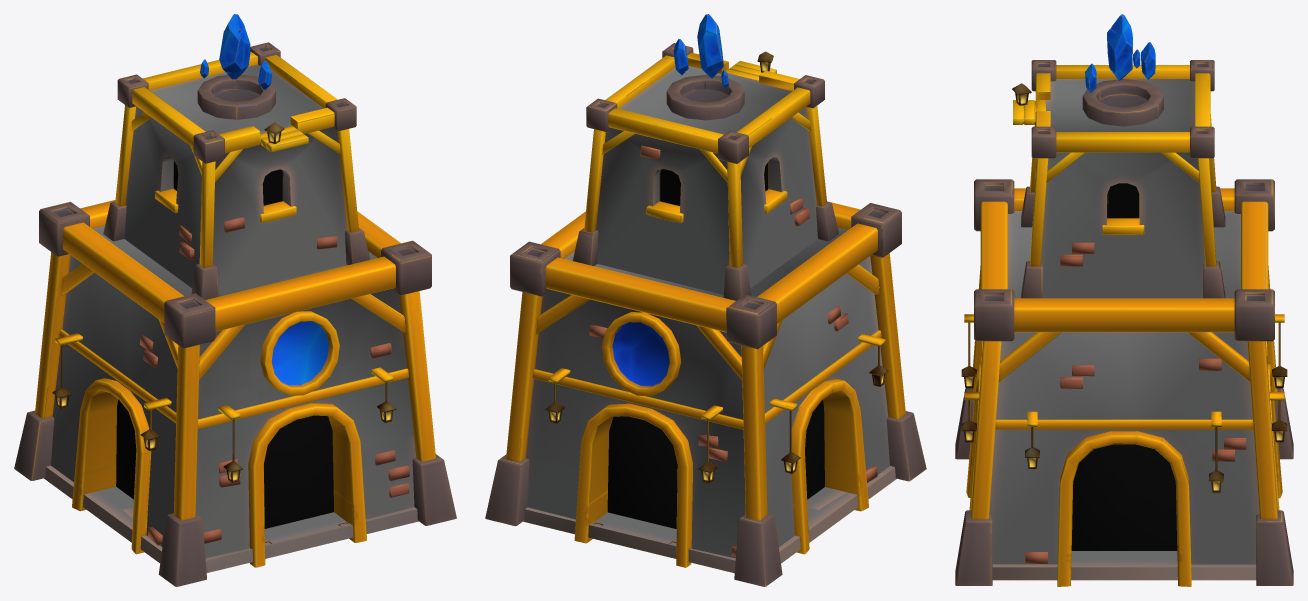
3 renders of one model, left to right at view 1: azimuth 30°, elevation 25°; view 2: azimuth 150°, elevation 25°; view 3: azimuth 270°, elevation 25°, orthographic. The views are drawn at different scales.
Parts seen in each view (by area): view 1: Cube.007_Baked; view 2: Cube.007_Baked; view 3: Cube.007_Baked.
Part boxes in pixels (x1,y1,x2,y2): Cube.007_Baked: (14,14,456,586); Cube.007_Baked: (485,14,926,586); Cube.007_Baked: (955,14,1293,586).
Size of the model in its own units: 300 by 494 by 300.
1 material, 1 textured.
